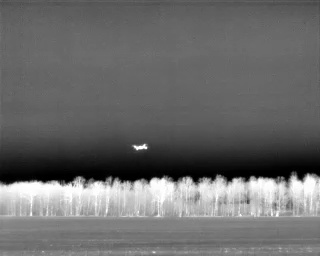DRONE: (128, 138, 153, 156)
